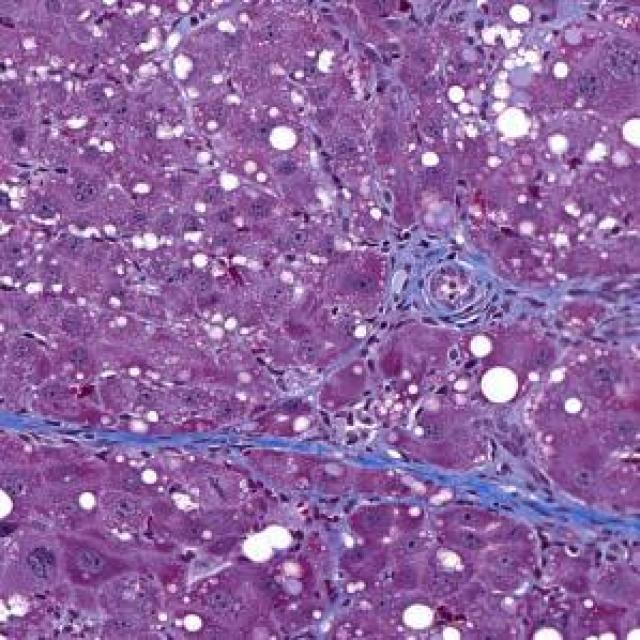fibrosis: (180, 419, 578, 512), (372, 227, 602, 351)
